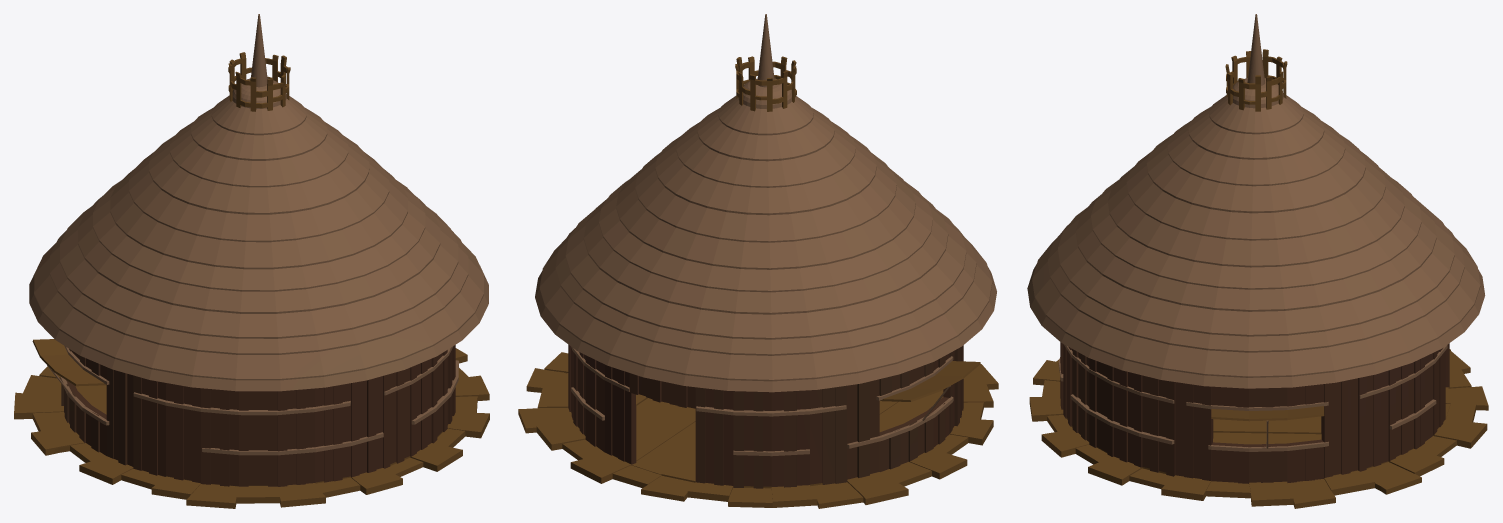
The model's file is African Hut Sudan.fbx.
3 views of the same model, side by side, from view 1: azimuth 30°, elevation 25°; view 2: azimuth 150°, elevation 25°; view 3: azimuth 270°, elevation 25° (orthographic).
Parts seen in each view (by area): view 1: Sudan; view 2: Sudan; view 3: Sudan.
Part boxes in pixels (bbox=[...]): Sudan: bbox=[14, 14, 489, 508]; Sudan: bbox=[518, 14, 998, 508]; Sudan: bbox=[1027, 14, 1488, 508].
Size of the model in its own units: 1354 by 1224 by 1303.
1 material, 1 textured.
